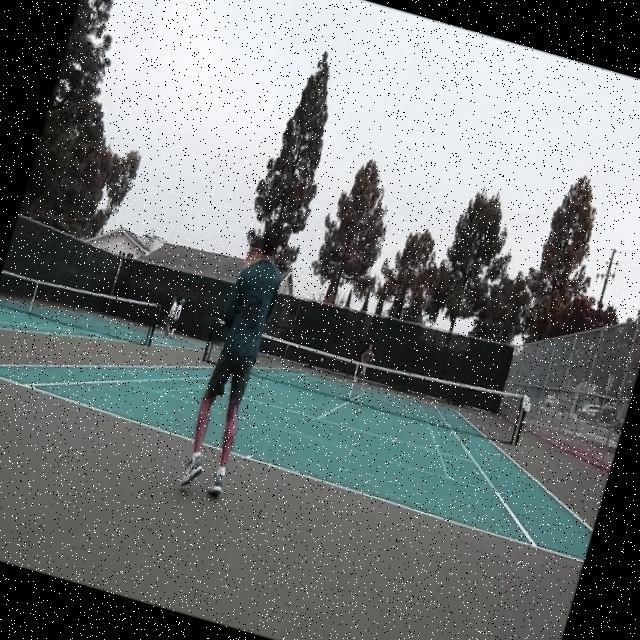court: (0, 280, 614, 562)
player: (174, 221, 295, 498)
